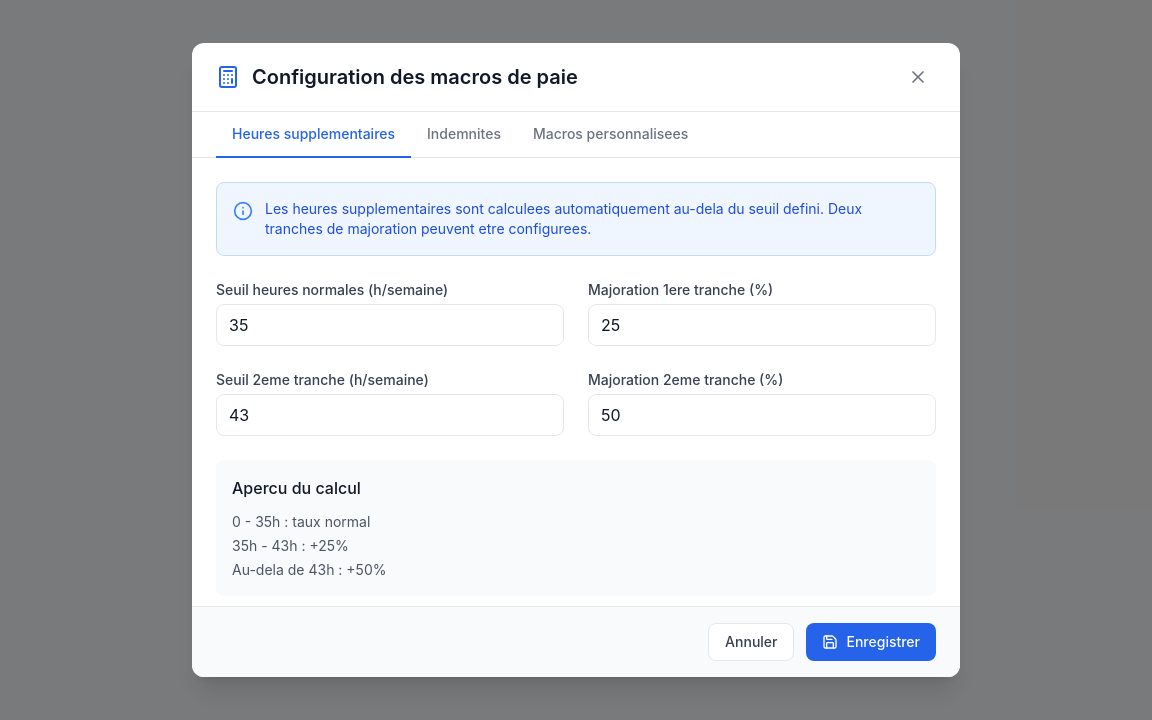
PayrollMacrosConfig › Onglet Macros personnalisees › affiche le message vide quand pas de macros
The image size is (1152, 720).
Click the button "Macros personnalisees": (611, 135) [517, 112, 704, 158]
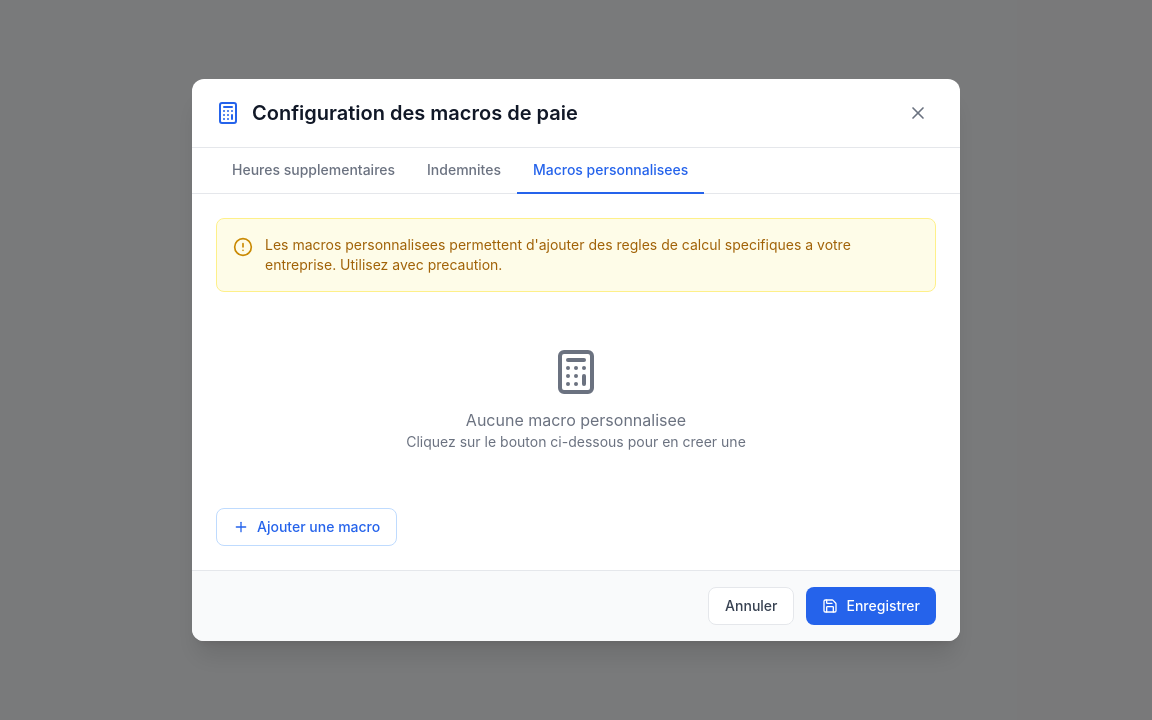
Expected: the text "Aucune macro personnalisee" is shown, [466, 410, 686, 430]
